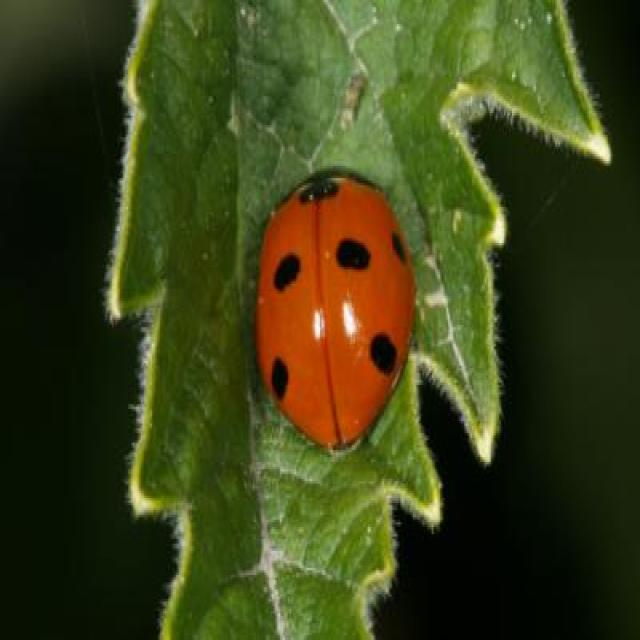body: (250, 169, 412, 449)
insect: (248, 169, 416, 449)
wings: (249, 171, 411, 451)
